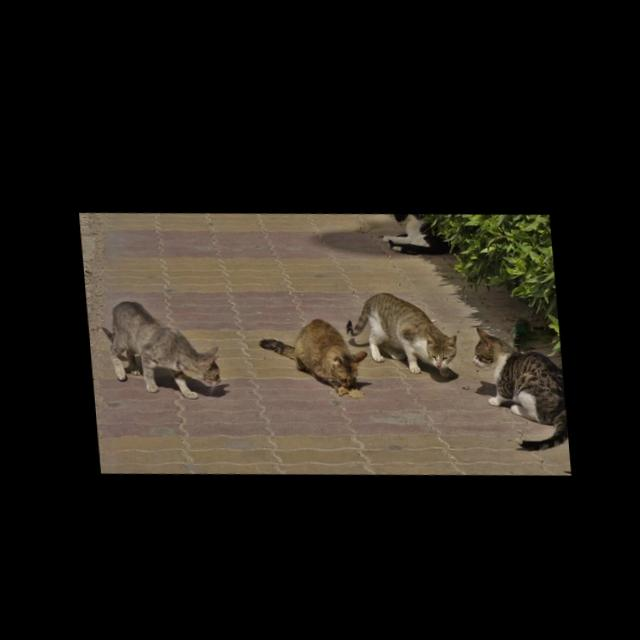animals: (99, 292, 223, 404), (468, 313, 567, 447), (342, 280, 460, 378), (256, 307, 369, 399), (377, 203, 449, 252)
